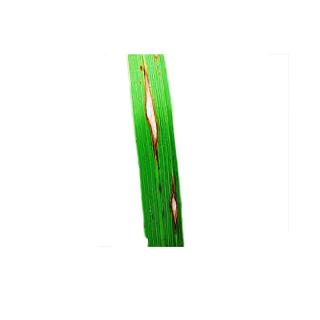Blast: (132, 60, 170, 171), (167, 182, 185, 238)
